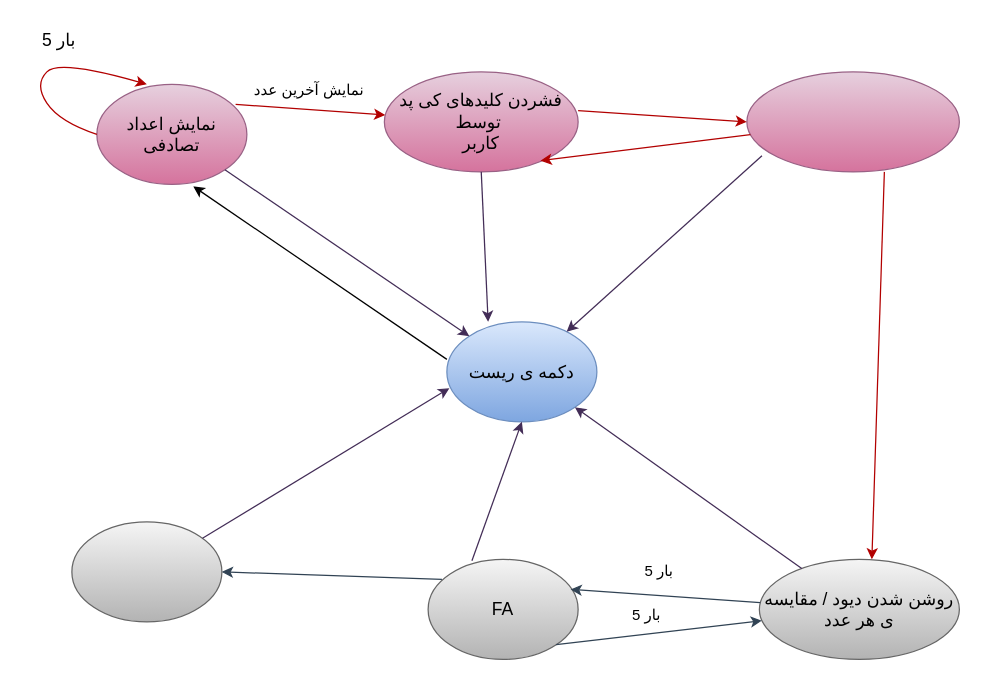
Some shapes in this 981 by 681 pixel diagram are drawn without their labels. The centre of each missing label's shape, as x and y in pixels:
نمایش اعداد: the point at 146,571
نمایش اعداد وارد شده توسط کاربر: the point at 852,121
